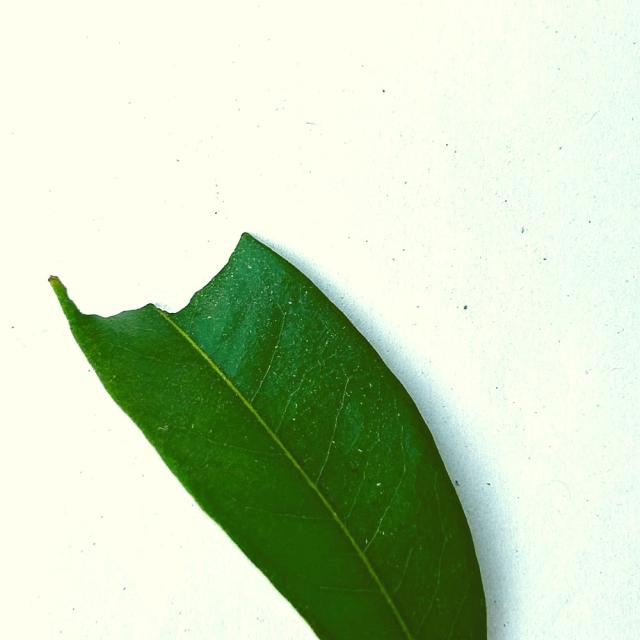Deficiency Leaf: (47, 226, 238, 289)
Lychee: (51, 234, 485, 639)
